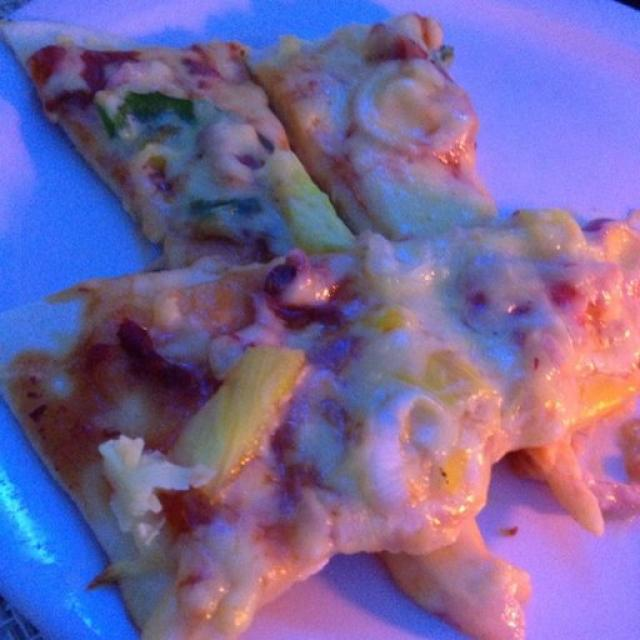Basil: (103, 82, 193, 120)
Cheese: (342, 434, 528, 608), (377, 242, 602, 356), (198, 142, 252, 195)
Onions: (362, 56, 478, 158)
Pineapple: (176, 349, 290, 469), (276, 146, 342, 238), (539, 361, 628, 420)
Pizza: (0, 12, 640, 640)
